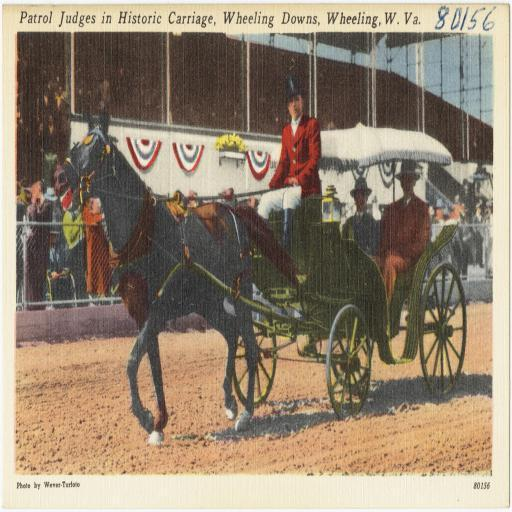horse: (52, 108, 299, 450)
